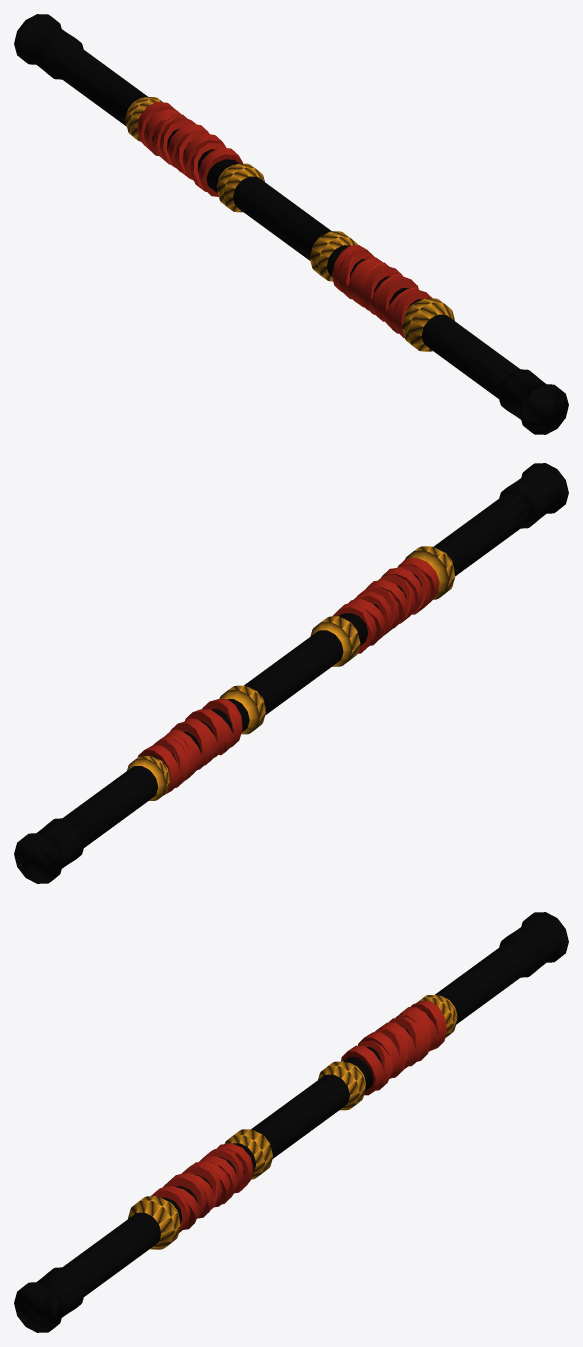
The model's file is WukongStaff.fbx.
The picture shows the model from 3 angles, top to bottom: view 1: azimuth 30°, elevation 25°; view 2: azimuth 150°, elevation 25°; view 3: azimuth 330°, elevation 25°; orthographic projection.
Visible parts, largest first — view 1: WukongStaff; view 2: WukongStaff; view 3: WukongStaff.
Part boxes in pixels (x1,y1,x2,y2): WukongStaff: (14, 14, 568, 434); WukongStaff: (14, 463, 568, 883); WukongStaff: (14, 912, 568, 1332).
Size of the model in its own units: 0.4065 by 0.4237 by 7.7.
